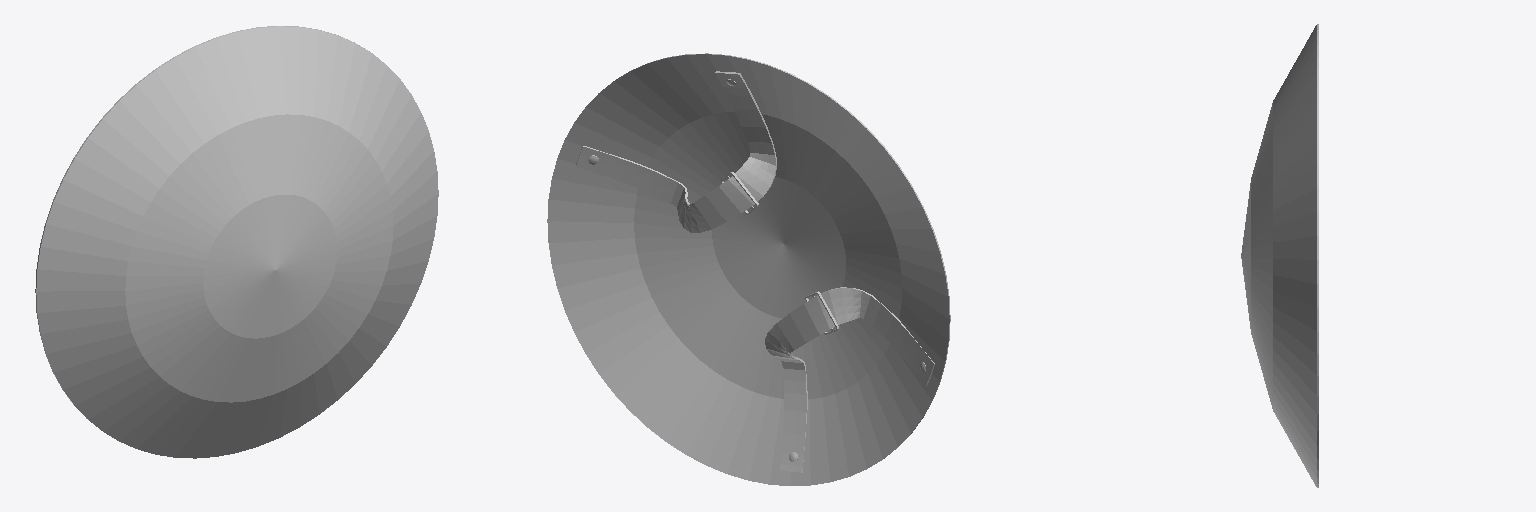
Rendered from Captain America Shield 3D Model.obj.
3 views of the same model, side by side, from view 1: azimuth 30°, elevation 25°; view 2: azimuth 150°, elevation 25°; view 3: azimuth 270°, elevation 25° (orthographic).
Parts seen in each view (by area): view 1: Captain_America_Shield_3D_Models; view 2: Captain_America_Shield_3D_Models; view 3: Captain_America_Shield_3D_Models.
Part boxes in pixels (left/top/right/bottom): Captain_America_Shield_3D_Models: left=35, top=26, right=438, bottom=458; Captain_America_Shield_3D_Models: left=547, top=53, right=950, bottom=485; Captain_America_Shield_3D_Models: left=1241, top=24, right=1318, bottom=487.
Bounding box in the file's own units: 64.15 × 64.15 × 10.74.